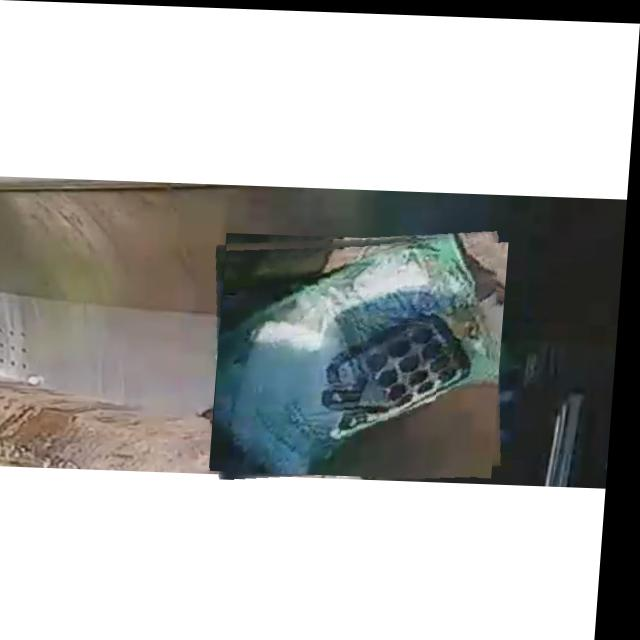general_trashbag: (220, 233, 499, 472)
